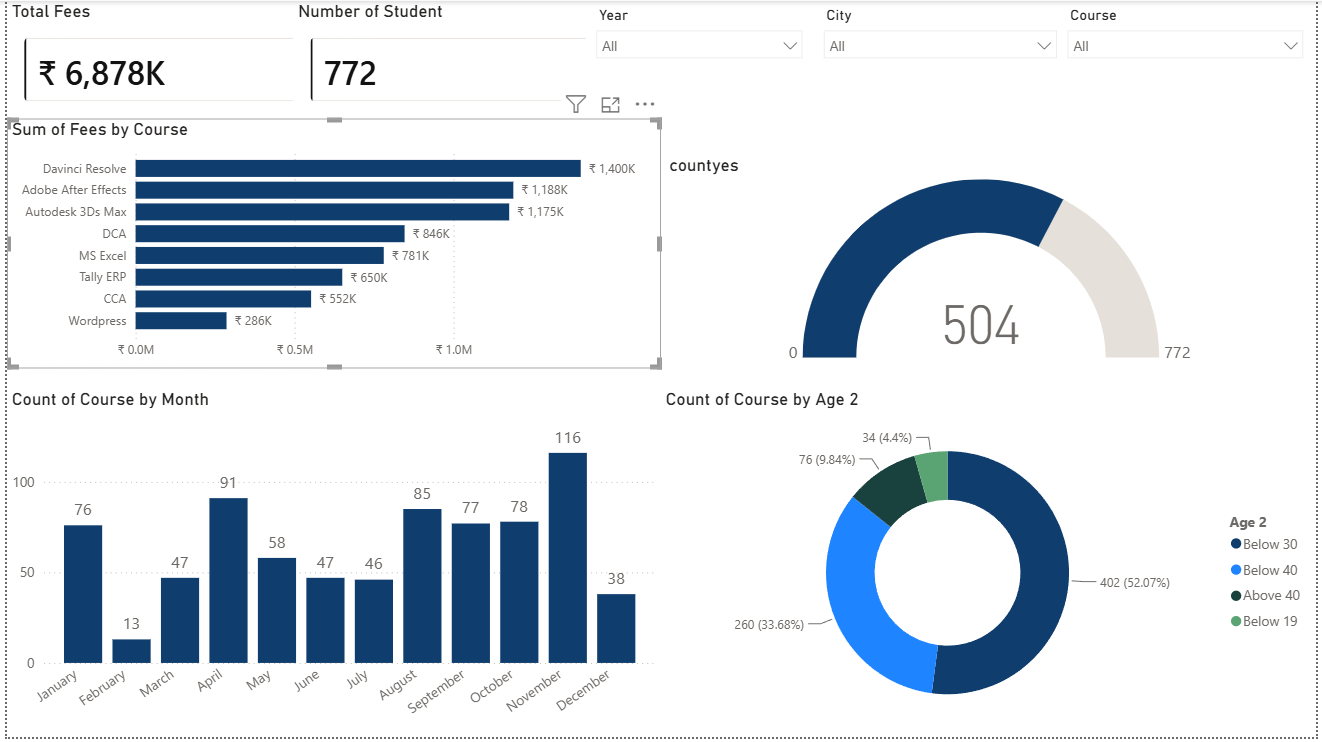

What the dashboard file says about the page in this screenshot:
{"tool":"powerbi","page":{"name":"Page 1","canvas":[1280,720],"ordinal":0},"visuals":[{"type":"clusteredColumnChart","fields":{"Category":["Student Course Details.Date of Join.Variation.Date Hierarchy.Year","Student Course Details.Date of Join.Variation.Date Hierarchy.Quarter","Student Course Details.Date of Join.Variation.Date Hierarchy.Month","Student Course Details.Date of Join.Variation.Date Hierarchy.Day"],"Y":["CountNonNull(Student Course Details.Course)"]},"box":[0,378.7,639.5,341.7],"z":0},{"type":"donutChart","fields":{"Y":["CountNonNull(Student Course Details.Course)"],"Category":["Student Course Details.Age 2"]},"box":[639.5,378.7,639.5,341.7],"z":1000},{"type":"clusteredBarChart","fields":{"Category":["Student Course Details.Course"],"Y":["Sum(Student Course Details.Fees)"]},"box":[0,115.3,639.5,244.3],"z":2000},{"type":"cardVisual","title":"Total Fees","fields":{"Data":["Sum(Student Course Details.Fees)"]},"box":[0,0,304.6,115.3],"z":3000},{"type":"cardVisual","title":"Number of Student","fields":{"Data":["CountNonNull(Personal Details.Student Name)"]},"box":[279.9,0,359.5,115.3],"z":4000},{"type":"gauge","fields":{"Y":["Personal Details.countyes"]},"box":[643.6,150.9,636.7,208.6],"z":5000},{"type":"slicer","fields":{"Values":["Student Course Details.Date of Join.Variation.Date Hierarchy.Year"]},"box":[566.7,0,222.3,150.9],"z":6000},{"type":"slicer","fields":{"Values":["Personal Details.City"]},"box":[789,0,248.4,150.9],"z":7000},{"type":"slicer","fields":{"Values":["Student Course Details.Course"]},"box":[1027.8,0,251.1,150.9],"z":8000}]}

Visuals, with their boxes in screenshot pixels (x1, y1, x2, y2), scaled from the page's 1280x720 canvas onto the 1322x742 screenshot:
clusteredColumnChart - Student Course Details.Date of Join.Variation.Date Hierarchy.Year x Student Course Details.Date of Join.Variation.Date Hierarchy.Quarter: crop(0, 390, 660, 741)
donutChart - CountNonNull(Student Course Details.Course) x Student Course Details.Age 2: crop(660, 390, 1321, 741)
clusteredBarChart - Student Course Details.Course x Sum(Student Course Details.Fees): crop(0, 119, 660, 371)
"Total Fees" cardVisual: crop(0, 0, 315, 119)
"Number of Student" cardVisual: crop(289, 0, 660, 119)
gauge - Personal Details.countyes: crop(665, 156, 1321, 370)
slicer - Student Course Details.Date of Join.Variation.Date Hierarchy.Year: crop(585, 0, 815, 156)
slicer - Personal Details.City: crop(815, 0, 1071, 156)
slicer - Student Course Details.Course: crop(1062, 0, 1321, 156)
